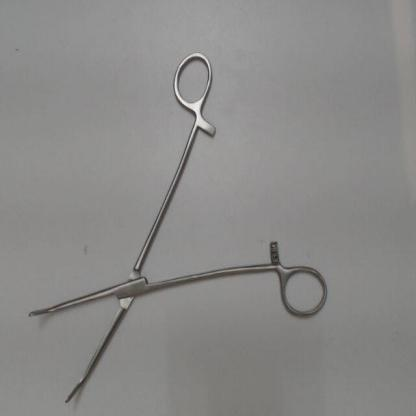Lahey Forceps: (26, 47, 335, 416)
